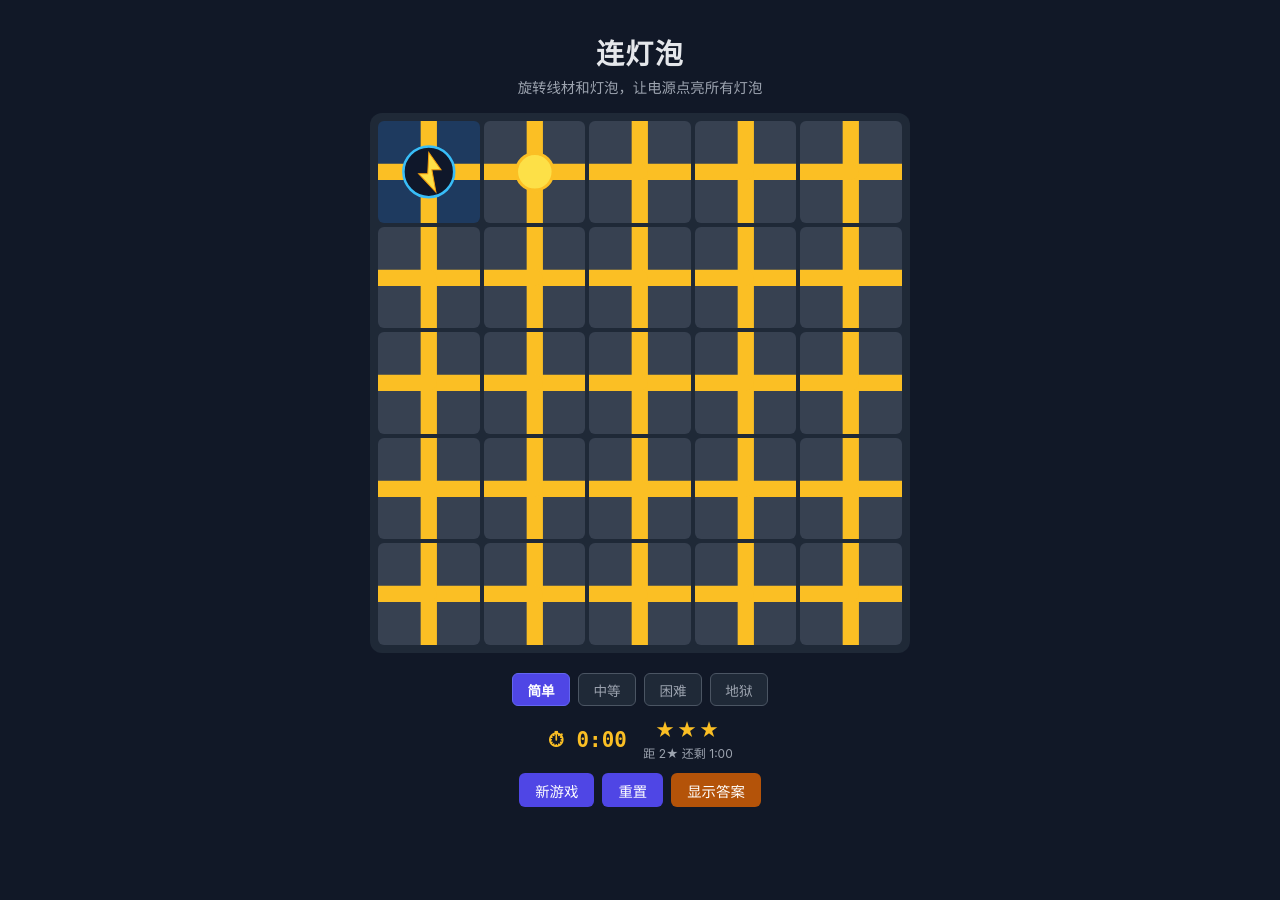
Scenario: App - 重置确认 › 点击重置弹出确认框
Click the button "重置" at (633, 790), box 602,773 -> 663,807
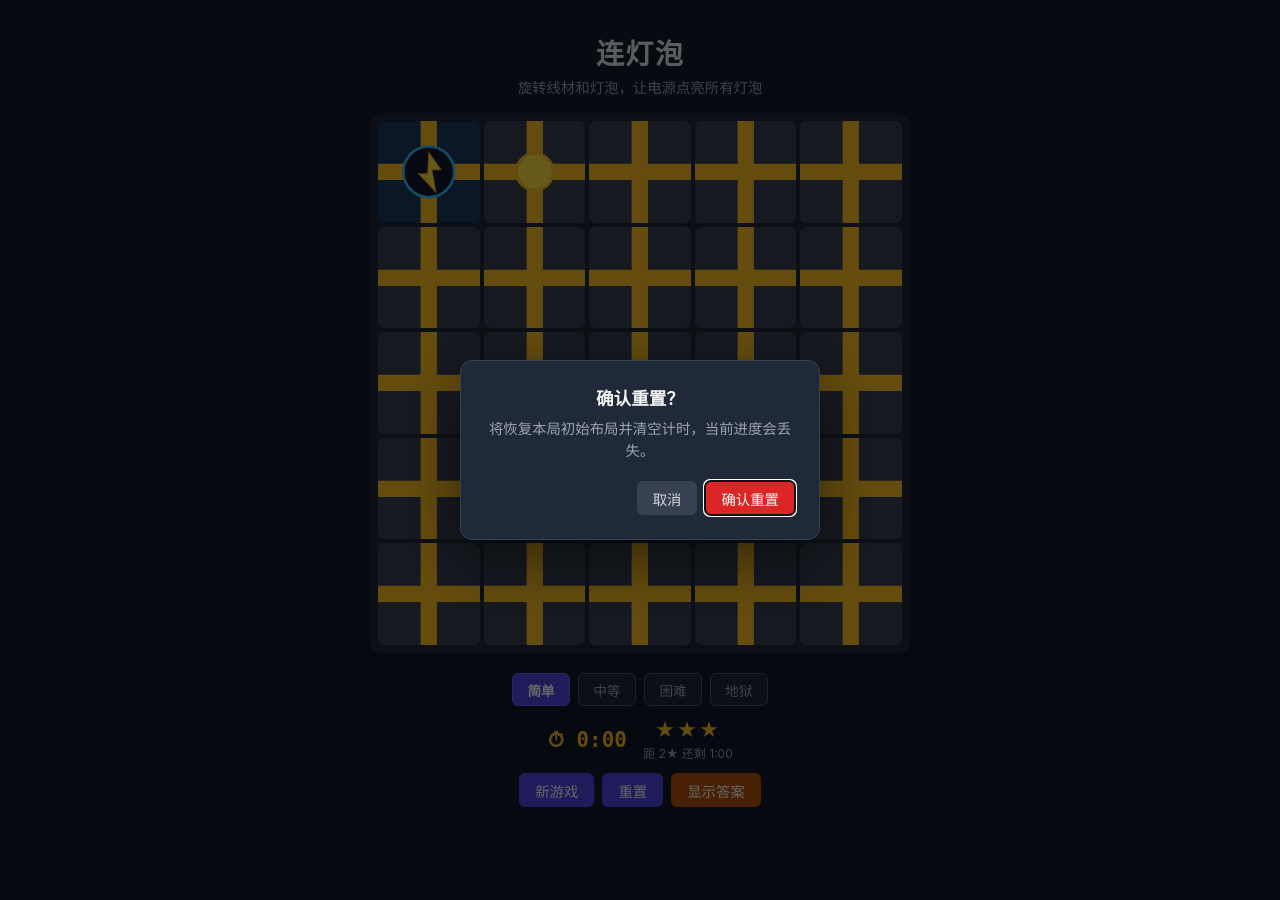
Expected: the heading "确认重置？" is shown, 596,388 -> 684,409
